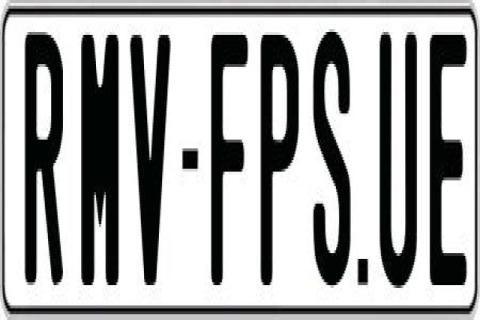E: (430, 29, 463, 282)
F: (208, 29, 252, 282)
M: (80, 26, 120, 282)
P: (258, 26, 301, 282)
R: (21, 29, 63, 297)
S: (311, 24, 353, 288)
U: (380, 23, 421, 285)
V: (129, 35, 176, 297)
